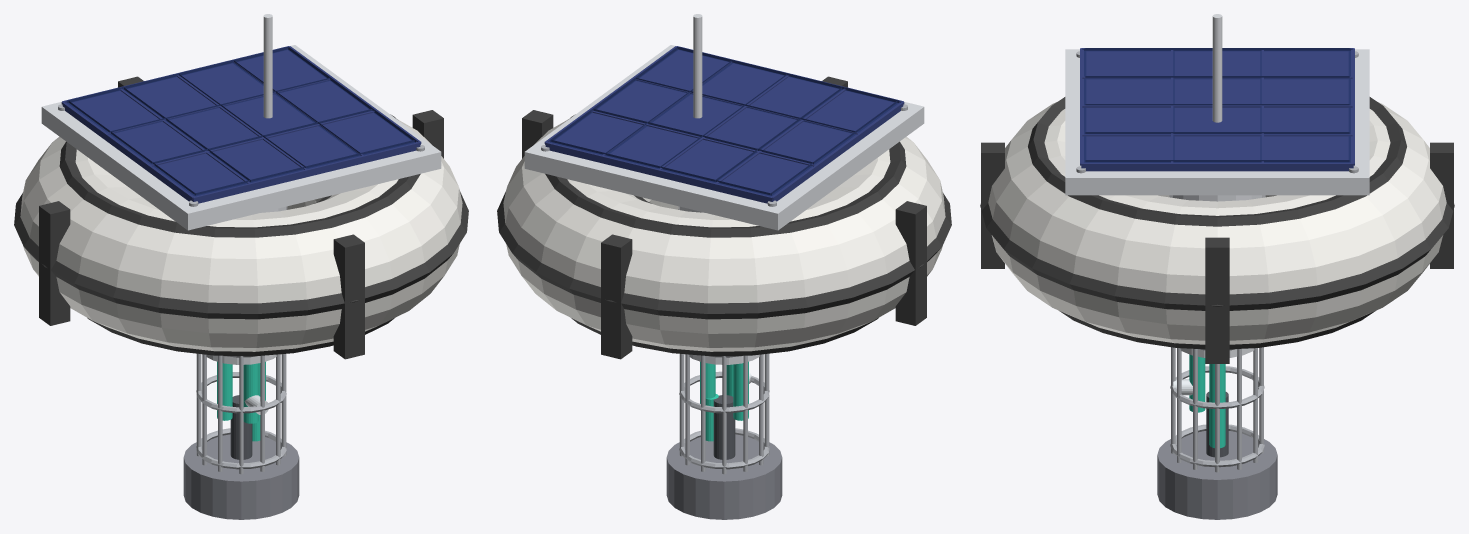
Rendered from aquasense.glb.
The picture shows the model from 3 angles, left to right: view 1: azimuth 30°, elevation 25°; view 2: azimuth 150°, elevation 25°; view 3: azimuth 270°, elevation 25°; orthographic projection. The views are drawn at different scales.
Visible parts, largest first — view 1: Float_Hull, Solar_Panel_Array, Hull_Grip_Wrap, Solar_Cap_Frame, Bumper_Guards, Ballast_Module, Water_Intake_Grill, Solar_Cell_Grid, Sensor_Array, LTE_Antenna, DO_Sensor; view 2: Float_Hull, Solar_Panel_Array, Hull_Grip_Wrap, Solar_Cap_Frame, Bumper_Guards, Ballast_Module, Water_Intake_Grill, Solar_Cell_Grid, Sensor_Array, DO_Sensor, LTE_Antenna; view 3: Float_Hull, Solar_Panel_Array, Hull_Grip_Wrap, Solar_Cap_Frame, Ballast_Module, Bumper_Guards, Water_Intake_Grill, Solar_Cell_Grid, LTE_Antenna, Sensor_Array, DO_Sensor.
Boxes of the visible parts, x1,y1,x2,y2 form: Float_Hull: [20, 119, 462, 351]; Solar_Panel_Array: [61, 46, 421, 203]; Hull_Grip_Wrap: [14, 114, 468, 356]; Solar_Cap_Frame: [41, 45, 441, 230]; Bumper_Guards: [39, 76, 443, 359]; Ballast_Module: [183, 434, 299, 519]; Water_Intake_Grill: [196, 353, 286, 474]; Solar_Cell_Grid: [66, 46, 416, 196]; Sensor_Array: [217, 361, 265, 423]; LTE_Antenna: [263, 14, 272, 118]; DO_Sensor: [230, 395, 252, 459]; Float_Hull: [503, 119, 945, 351]; Solar_Panel_Array: [544, 46, 904, 203]; Hull_Grip_Wrap: [497, 114, 951, 356]; Solar_Cap_Frame: [524, 45, 924, 230]; Bumper_Guards: [522, 76, 926, 359]; Ballast_Module: [666, 434, 782, 519]; Water_Intake_Grill: [679, 353, 769, 474]; Solar_Cell_Grid: [549, 46, 899, 196]; Sensor_Array: [700, 361, 748, 420]; DO_Sensor: [713, 395, 735, 459]; LTE_Antenna: [693, 14, 702, 118]; Float_Hull: [988, 102, 1446, 344]; Solar_Panel_Array: [1080, 48, 1354, 171]; Hull_Grip_Wrap: [980, 97, 1454, 349]; Solar_Cap_Frame: [1065, 49, 1369, 195]; Ballast_Module: [1157, 431, 1277, 519]; Bumper_Guards: [981, 142, 1453, 363]; Water_Intake_Grill: [1170, 347, 1264, 472]; Solar_Cell_Grid: [1084, 48, 1350, 162]; LTE_Antenna: [1212, 14, 1222, 122]; Sensor_Array: [1189, 354, 1225, 420]; DO_Sensor: [1206, 392, 1228, 457].
Bounding box in the file's own units: 0.592 × 0.6775 × 0.592.
